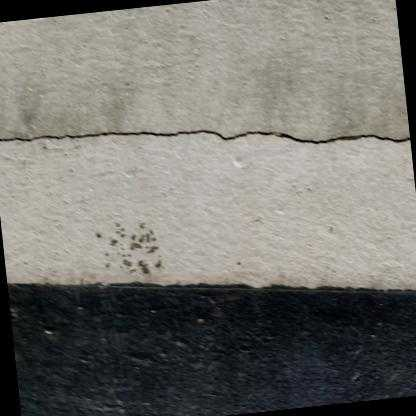crack: (0, 129, 410, 142)
